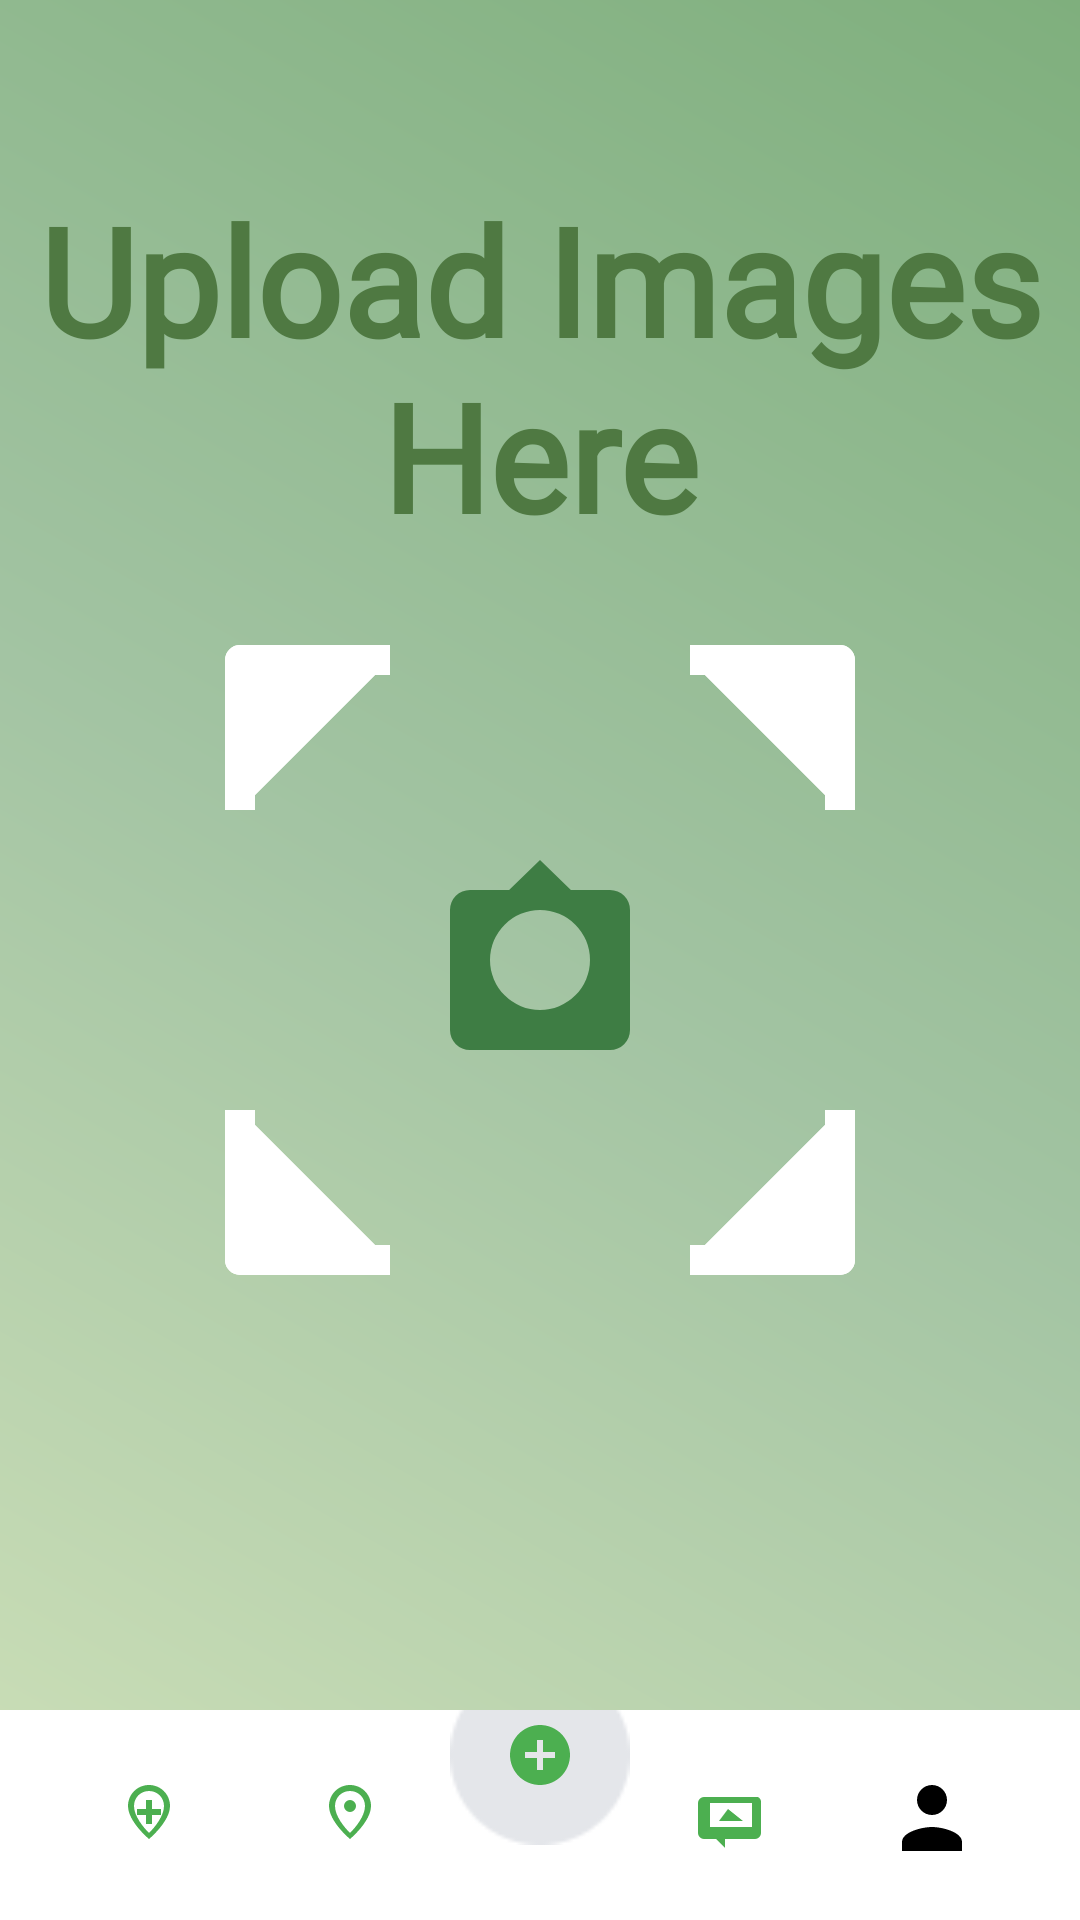

Icon bounding boxes for this 1080 × 1920 phone screenshot, format (x1, y1, x2, y2):
camera: (450, 860, 630, 1050)
create shared space: (128, 1785, 170, 1839)
profile: (902, 1785, 962, 1851)
view images tips: (698, 1797, 761, 1848)
view shared space: (329, 1785, 371, 1839)
